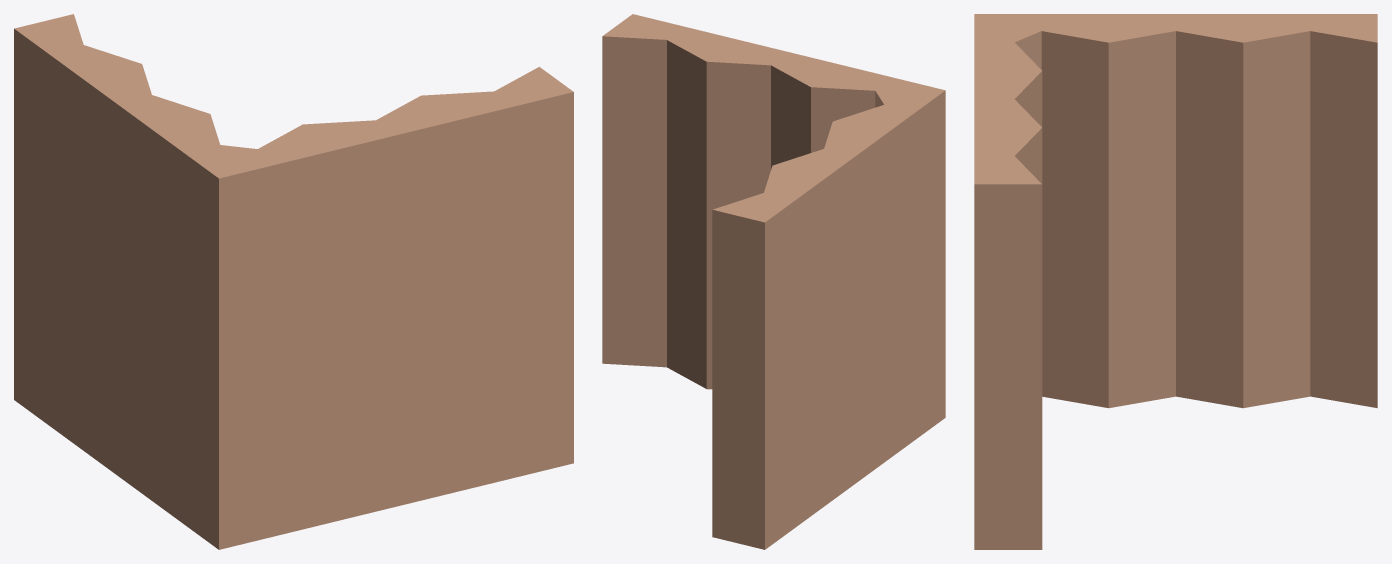
File: cliff_cornerInner_rock.glb
3 renders of one model, left to right at view 1: azimuth 30°, elevation 25°; view 2: azimuth 150°, elevation 25°; view 3: azimuth 270°, elevation 25°, orthographic. The views are drawn at different scales.
Visible parts, largest first — view 1: cliff_cornerInner_rock; view 2: cliff_cornerInner_rock; view 3: cliff_cornerInner_rock.
Part boxes in pixels (box(x1,y1,x2,y2)): cliff_cornerInner_rock: box(14, 14, 573, 549); cliff_cornerInner_rock: box(602, 14, 945, 549); cliff_cornerInner_rock: box(974, 14, 1377, 549).
Size of the model in its own units: 1 by 1 by 1.
